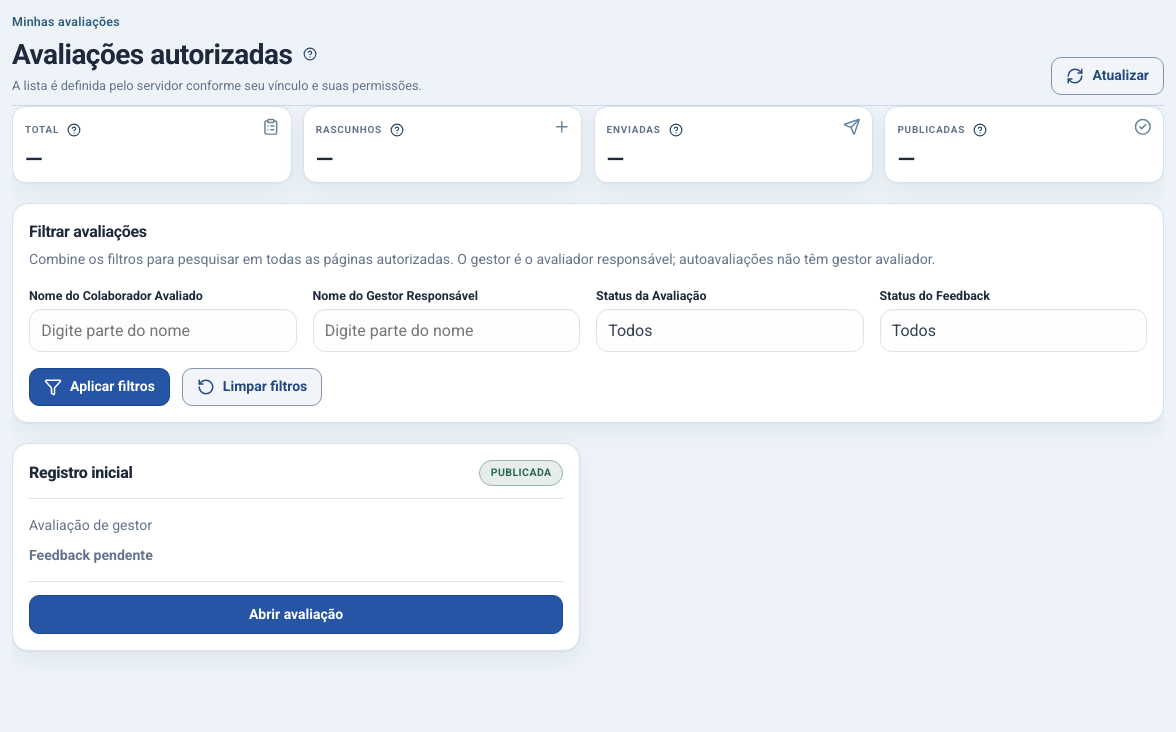
it: Filtros de avaliações autorizadas › limpa os quatro filtros e recupera resultados após busca vazia
Expected: the heading "Registro inicial" is shown, [29, 463, 132, 482]
Type "Ausente" into the search field labelled "Nome do Colaborador Avaliado" at [163, 331], box [29, 309, 296, 352]
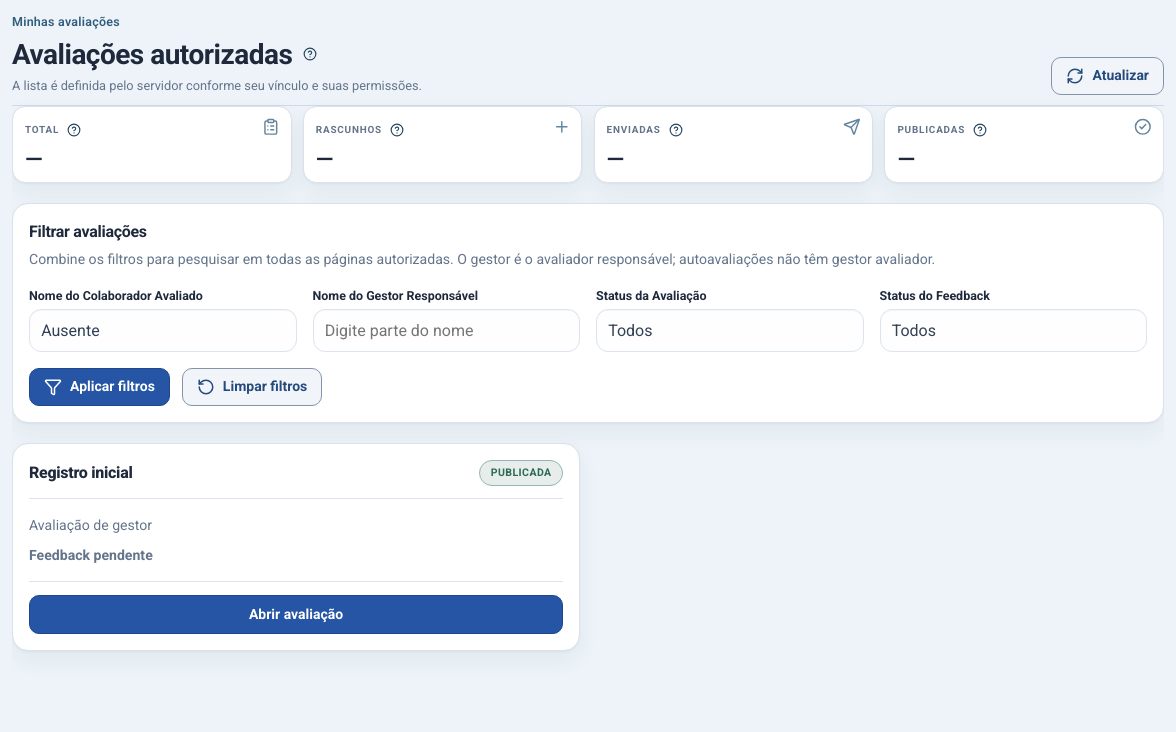
Click the button "Aplicar filtros" at [99, 387], box [29, 368, 170, 406]
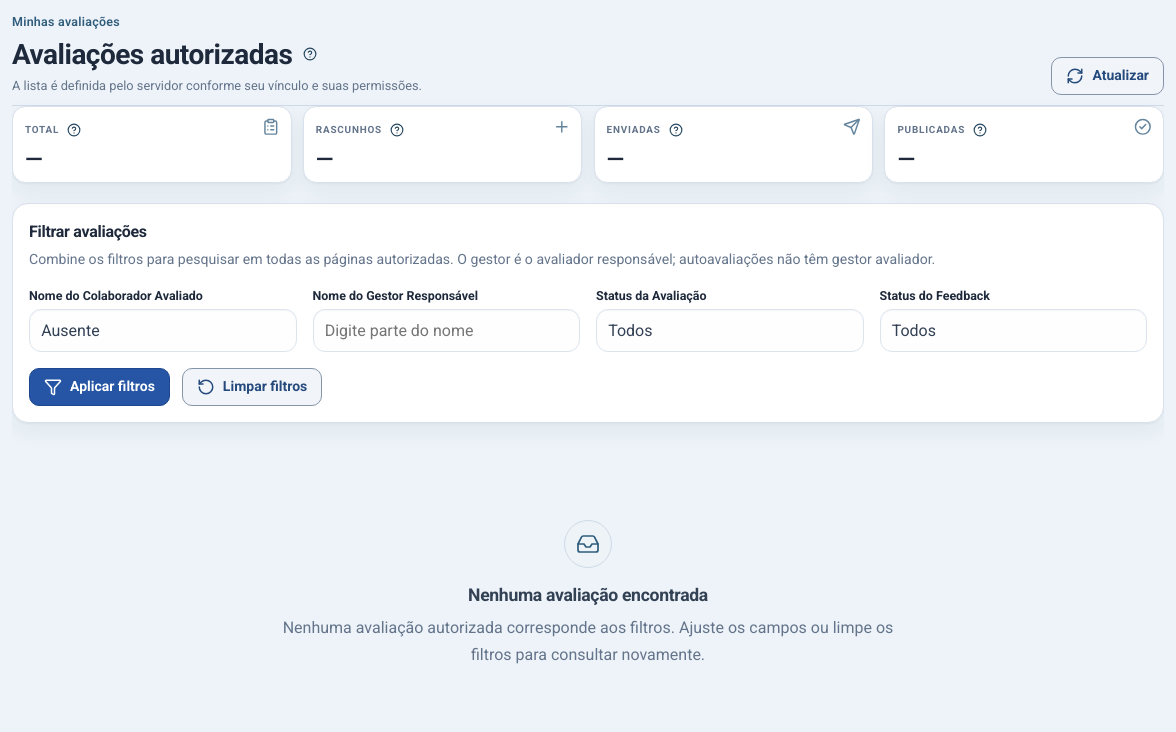
Result: the heading "Nenhuma avaliação encontrada" is shown at [468, 582, 708, 608]
Click the button "Limpar filtros" at [252, 387], box [182, 368, 322, 406]
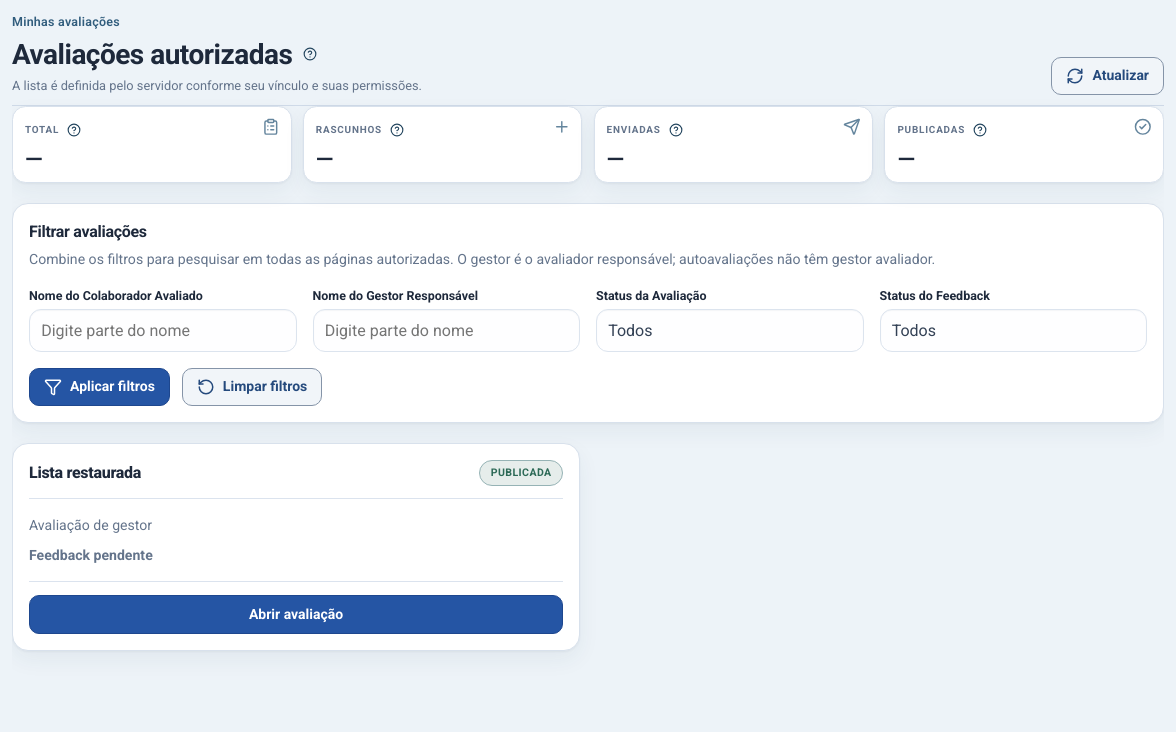
Result: the heading "Lista restaurada" is shown at [29, 463, 141, 482]
Result: the search field labelled "Nome do Colaborador Avaliado" is empty at [29, 309, 296, 352]
